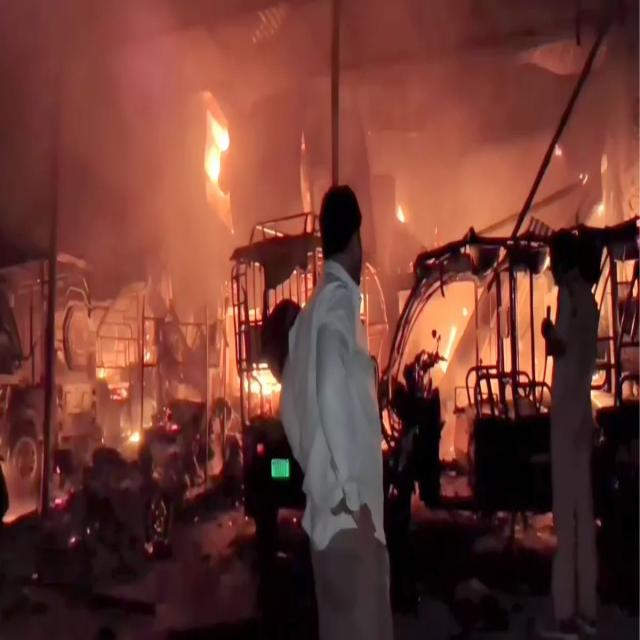fire: (206, 116, 229, 182)
